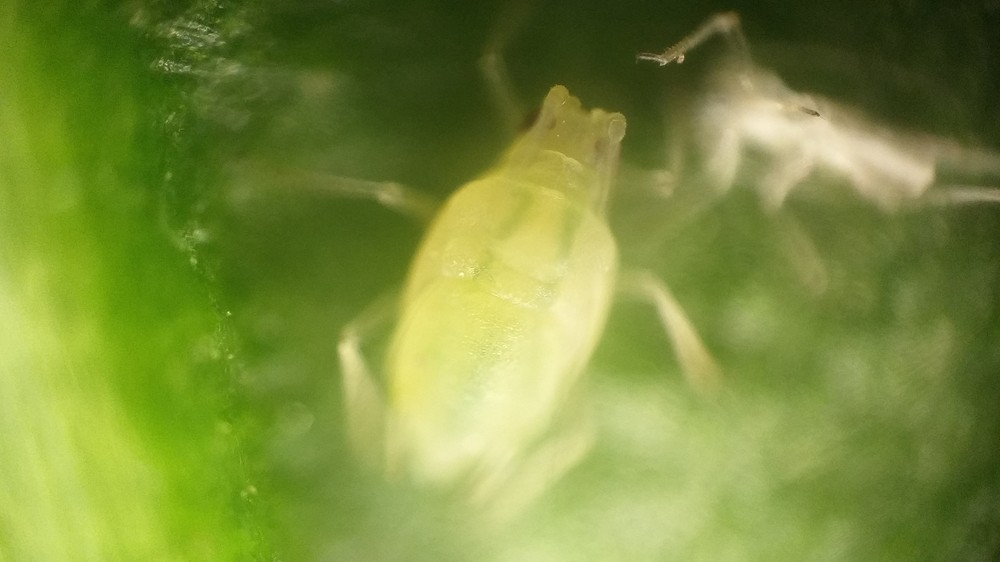Pulgon: (283, 28, 746, 551)
